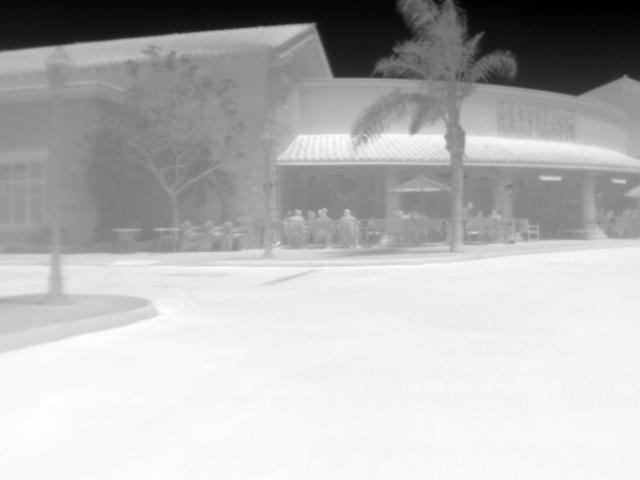person: (462, 200, 478, 219), (315, 206, 333, 222), (337, 207, 357, 221), (284, 209, 307, 221)
